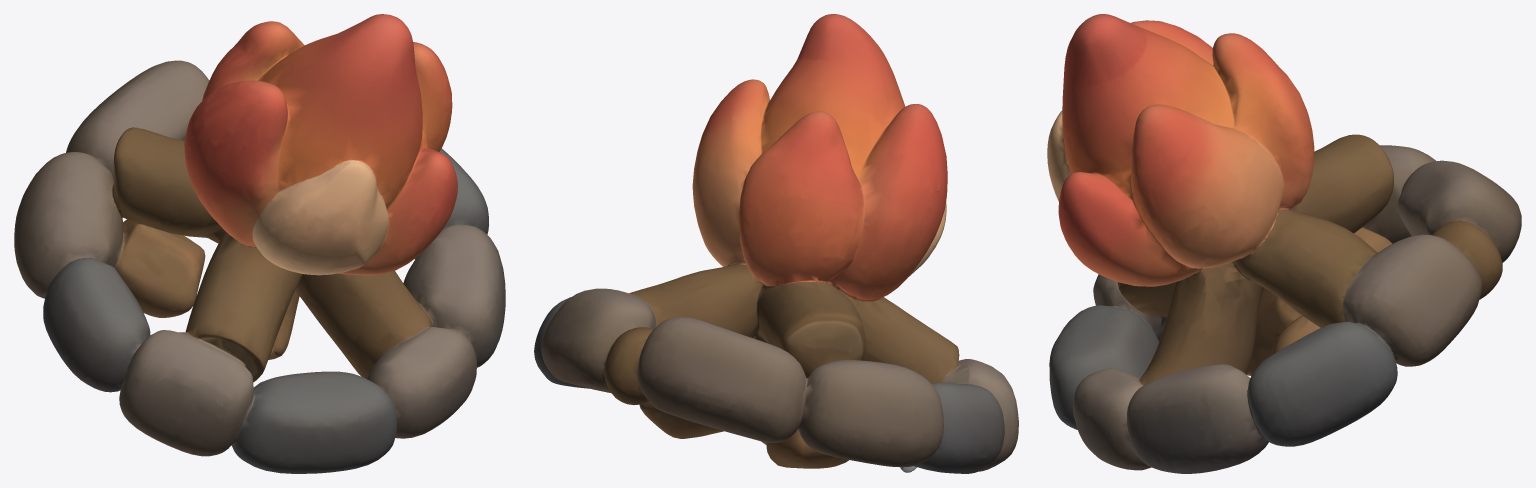
File: campfire.glb
The picture shows the model from 3 angles, left to right: view 1: azimuth 30°, elevation 25°; view 2: azimuth 150°, elevation 25°; view 3: azimuth 270°, elevation 25°; orthographic projection. The views are drawn at different scales.
Bounding box in the file's own units: 1.15 × 1.09 × 1.09.
1 material, 1 textured.
